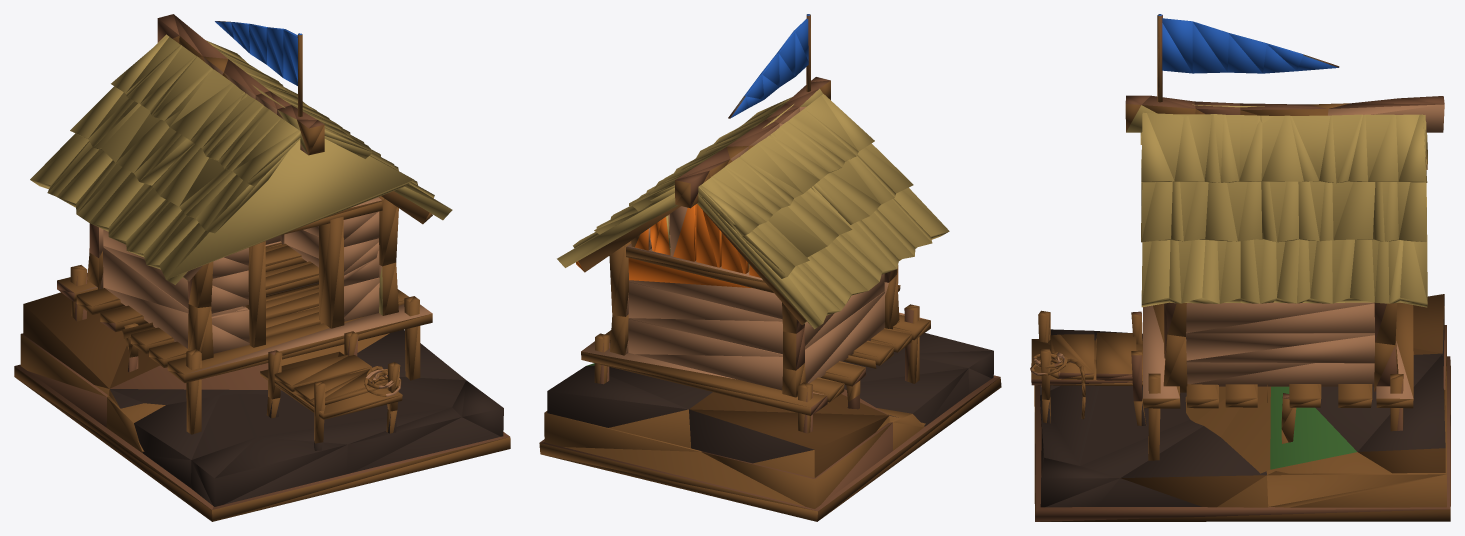
The model's file is building.boathouse.glb.
The picture shows the model from 3 angles, left to right: view 1: azimuth 30°, elevation 25°; view 2: azimuth 150°, elevation 25°; view 3: azimuth 270°, elevation 25°; orthographic projection. The views are drawn at different scales.
Visible parts, largest first — view 1: asset; view 2: asset; view 3: asset.
Boxes of the visible parts, x1=… form: asset: x1=14, y1=14, x2=510, y2=521; asset: x1=539, y1=14, x2=1001, y2=521; asset: x1=1030, y1=14, x2=1450, y2=521.
Size of the model in its own units: 1.69 by 2.2 by 1.96.
